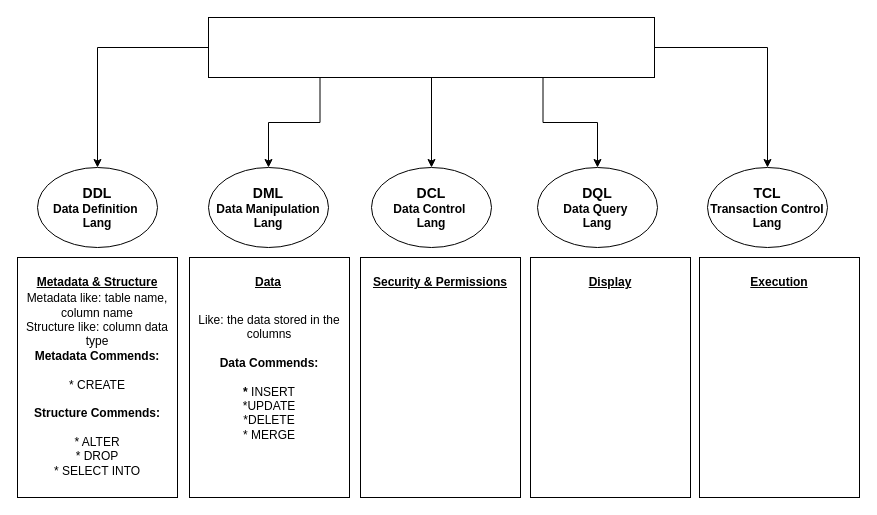
Image size: 877x515. Some labels were removed from this diagram. Here are the shapes that lost their labels. From the top down, the box of each, then its label:
(208, 16, 654, 78): Microsoft Transact SQL
(360, 256, 520, 498): Commends * GRANT * DENY * REVOKE
(530, 256, 690, 498): Commends * SELECT With Combination with AGG FUN GROUPING UNION JOINS SUBQUERIES
(698, 256, 860, 498): Commends * BEGIN TRANSACTION *COMMIT *ROLLBACK
